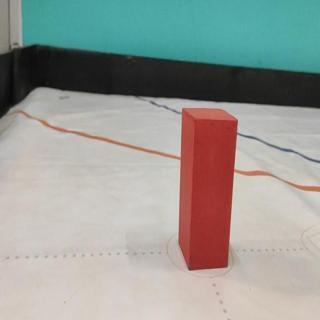redbox: (177, 106, 239, 267)
